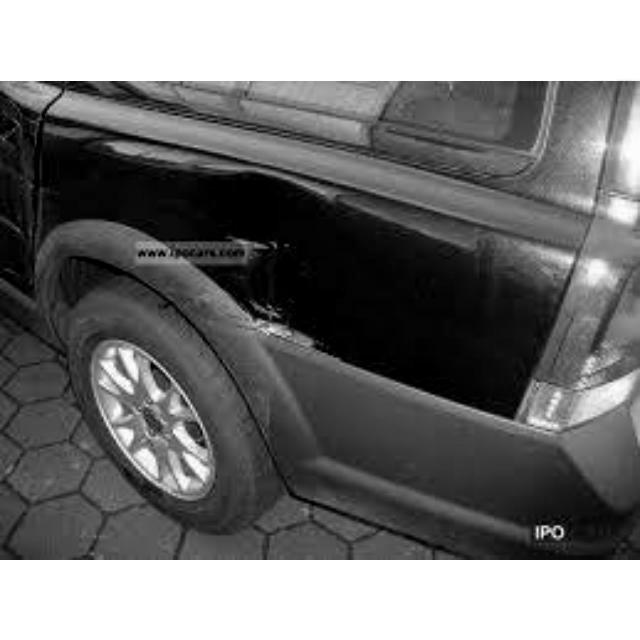quaterpanel-dent: (156, 145, 497, 384)
